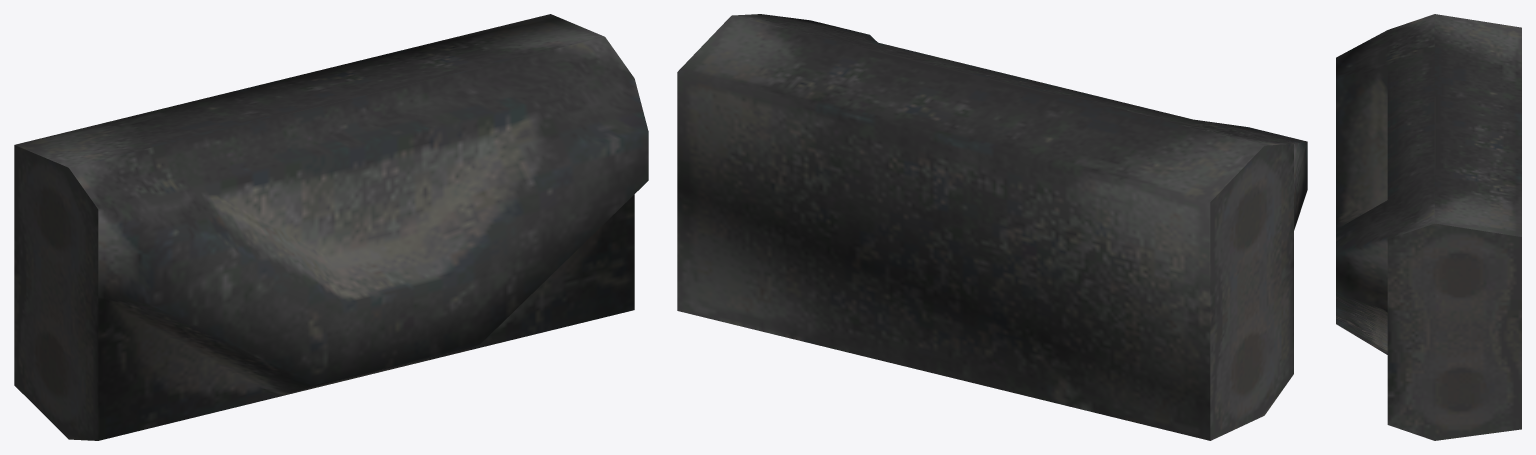
The picture shows the model from 3 angles, left to right: view 1: azimuth 30°, elevation 25°; view 2: azimuth 150°, elevation 25°; view 3: azimuth 270°, elevation 25°; orthographic projection. The views are drawn at different scales.
Visible parts, largest first — view 1: set_0_group_0; view 2: set_0_group_0; view 3: set_0_group_0.
Boxes of the visible parts, bbox=[...] form: set_0_group_0: bbox=[14, 14, 648, 440]; set_0_group_0: bbox=[677, 14, 1307, 440]; set_0_group_0: bbox=[1336, 14, 1521, 440].
Size of the model in its own units: 0.327 by 0.1583 by 0.1226.
Materials: 1 (1 with a texture image).
